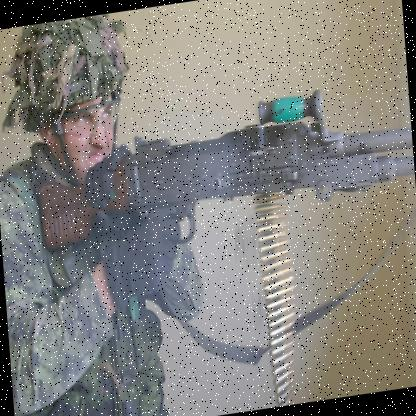rifle: (46, 88, 416, 262)
